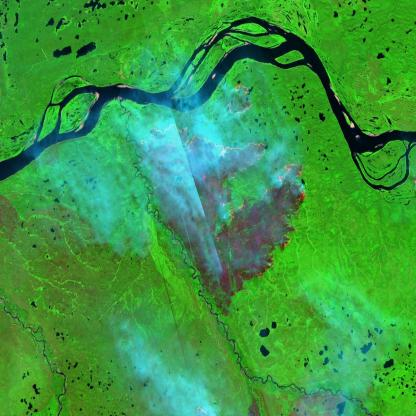fire: (133, 82, 308, 285)
